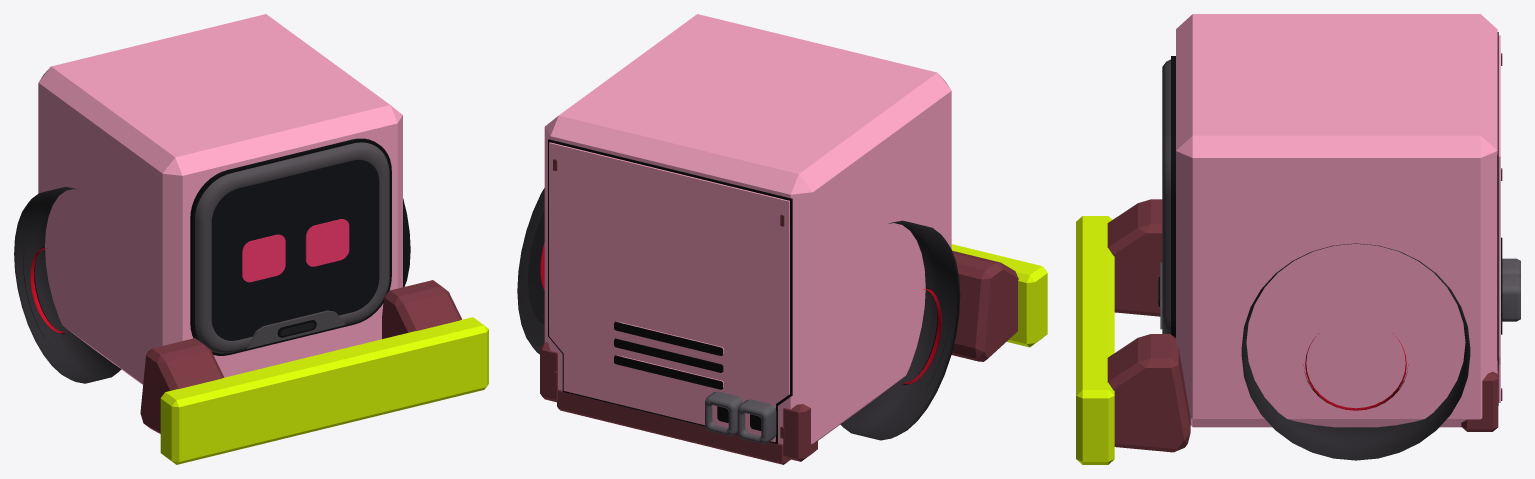
Rendered from PinkGoalkeeper.fbx.
3 renders of one model, left to right at view 1: azimuth 30°, elevation 25°; view 2: azimuth 150°, elevation 25°; view 3: azimuth 270°, elevation 25°, orthographic. The views are drawn at different scales.
Parts seen in each view (by area): view 1: PinkGoalkeeper; view 2: PinkGoalkeeper; view 3: PinkGoalkeeper.
Boxes of the visible parts, box(x1,y1,x2,y2) form: PinkGoalkeeper: box(14, 14, 488, 464); PinkGoalkeeper: box(517, 14, 1047, 464); PinkGoalkeeper: box(1076, 14, 1520, 464).
Bounding box in the file's own units: 1.35 × 1.04 × 1.38.
